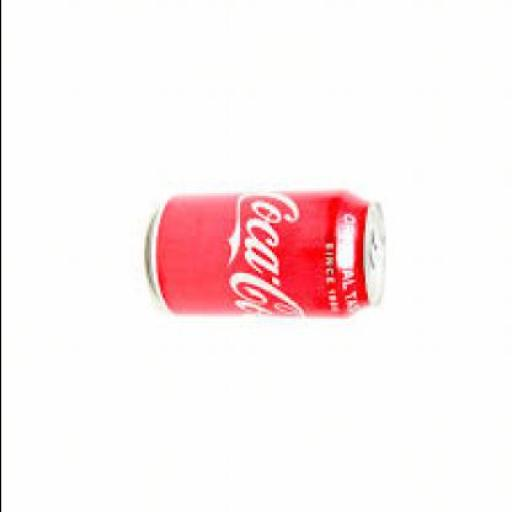metal: (146, 189, 387, 314)
